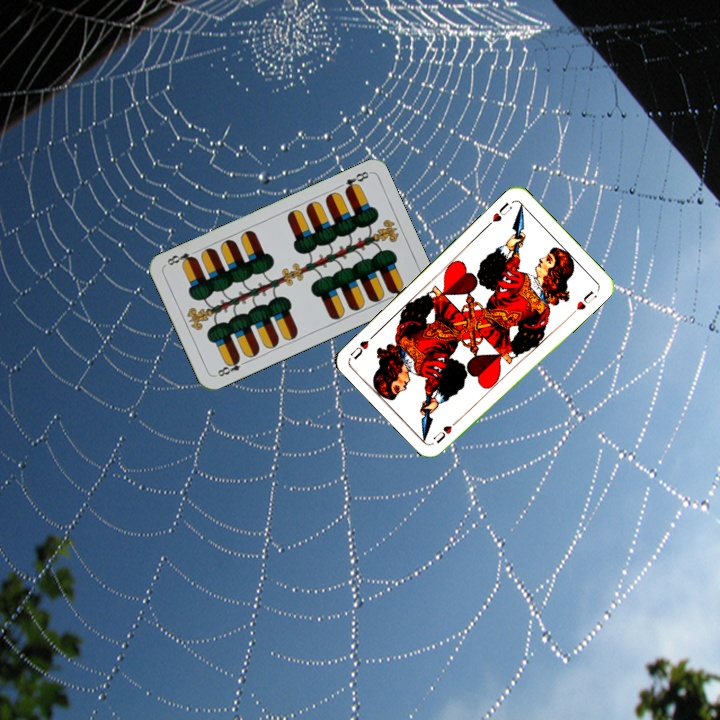E8: (211, 354, 250, 379), (341, 167, 371, 195)
HU: (429, 414, 463, 447), (483, 198, 515, 229)
